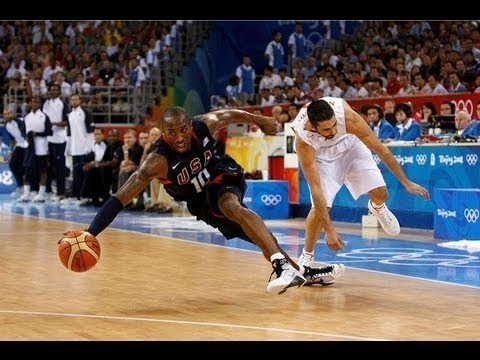basketball: (56, 226, 104, 275)
basketball player: (119, 108, 299, 302), (300, 89, 379, 273)
